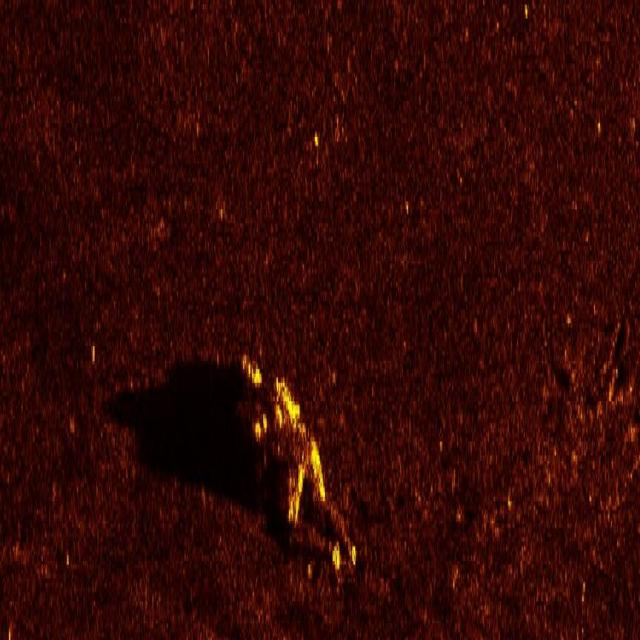other: (231, 328, 360, 589)
